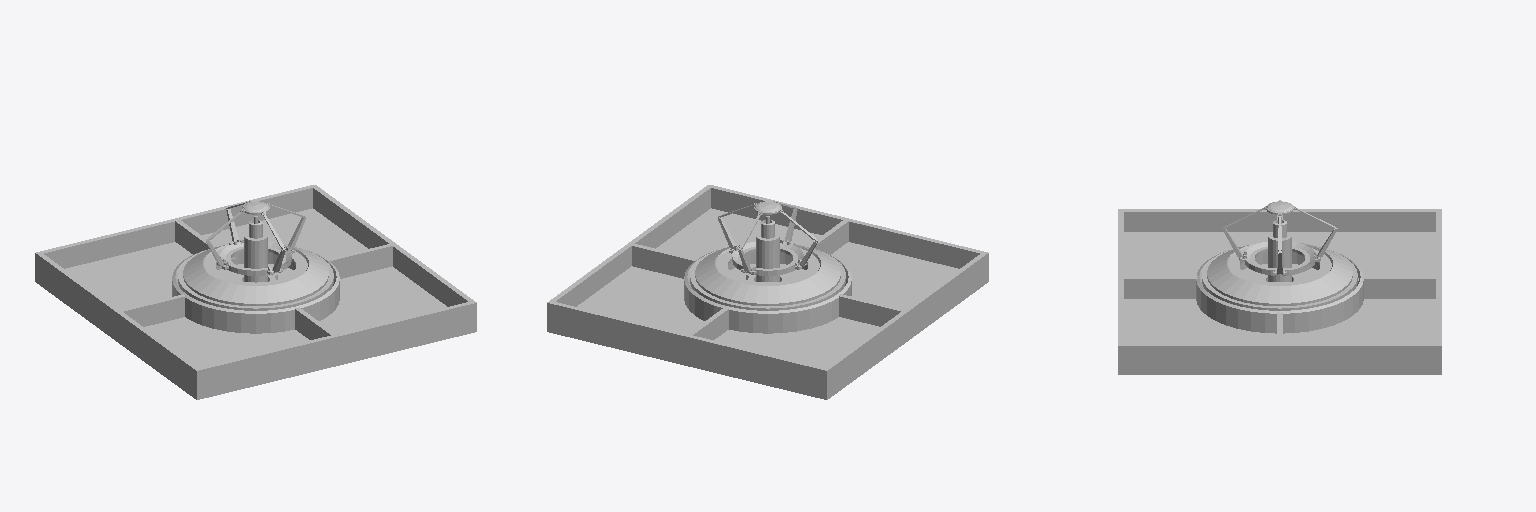
Rendered from EDITOR_laser_emitter.obj.
3 renders of one model, left to right at view 1: azimuth 30°, elevation 25°; view 2: azimuth 150°, elevation 25°; view 3: azimuth 270°, elevation 25°, orthographic.
Visible parts, largest first — view 1: Body.dmx/laser_emitter_offest_model.dmx.mesh_0; view 2: Body.dmx/laser_emitter_offest_model.dmx.mesh_0; view 3: Body.dmx/laser_emitter_offest_model.dmx.mesh_0.
Boxes of the visible parts, x1=… form: Body.dmx/laser_emitter_offest_model.dmx.mesh_0: x1=35, y1=185, x2=476, y2=399; Body.dmx/laser_emitter_offest_model.dmx.mesh_0: x1=547, y1=185, x2=988, y2=399; Body.dmx/laser_emitter_offest_model.dmx.mesh_0: x1=1118, y1=200, x2=1441, y2=374.
Bounding box in the file's own units: 64 × 22.27 × 64.